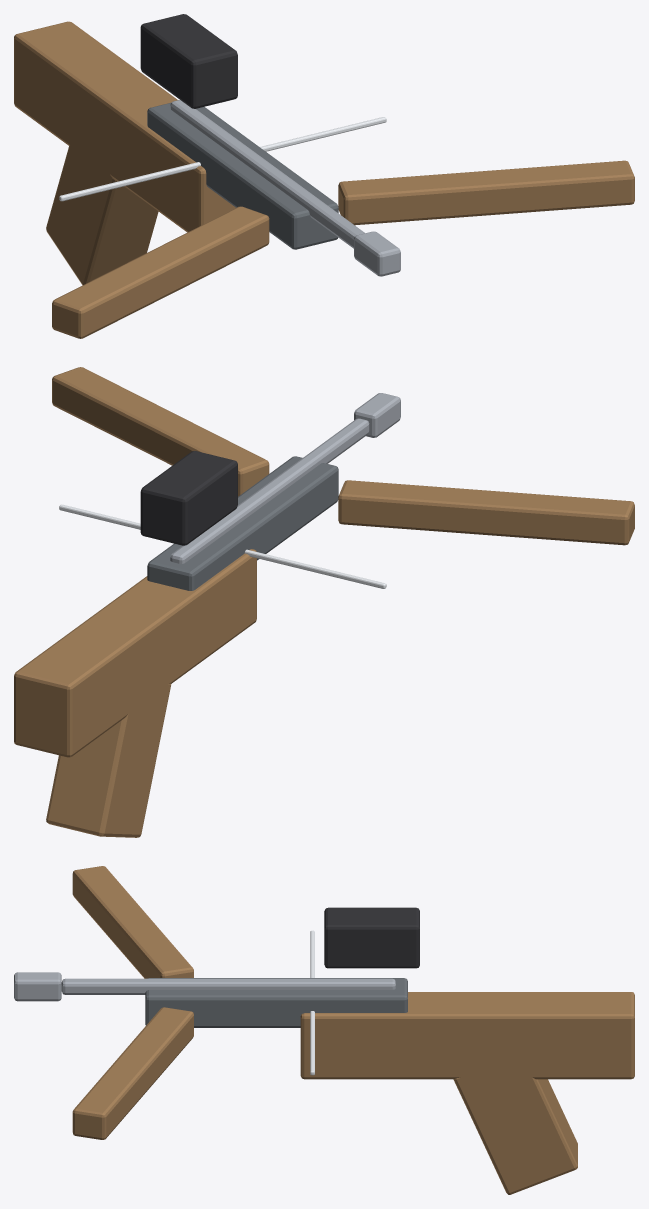
File: crossbow.glb
The picture shows the model from 3 angles, top to bottom: view 1: azimuth 30°, elevation 25°; view 2: azimuth 150°, elevation 25°; view 3: azimuth 270°, elevation 25°; orthographic projection. The views are drawn at different scales.
Visible parts, largest first — view 1: Stock, ProdR, ProdL, Grip, Rail, Scope, Bolt, String, Tip; view 2: Stock, ProdL, Grip, ProdR, Rail, Scope, Bolt, String, Tip; view 3: Stock, Grip, Rail, ProdR, ProdL, Scope, Bolt, Tip, String.
Boxes of the visible parts, x1,y1,x2,y2 form: Stock: (14,21,235,232); ProdR: (338,160,634,225); ProdL: (52,206,269,338); Grip: (46,124,158,285); Rail: (147,103,338,249); Scope: (140,14,237,108); Bolt: (170,100,364,248); String: (59,117,386,201); Tip: (354,231,400,276); Stock: (14,549,256,757); ProdL: (338,480,634,545); Grip: (46,683,171,837); ProdR: (52,367,269,496); Rail: (147,456,338,590); Scope: (140,451,237,545); Bolt: (170,418,369,563); String: (59,504,386,588); Tip: (354,393,400,437); Stock: (300,992,634,1079); Grip: (453,1054,577,1194); Rail: (145,978,407,1027); ProdR: (72,1007,193,1139); ProdL: (72,866,193,978); Scope: (324,907,419,968); Bolt: (61,978,395,994); Tip: (14,972,61,1001); String: (310,930,314,1075).
Bounding box in the file's own units: 0.4949 × 0.2468 × 0.52.
